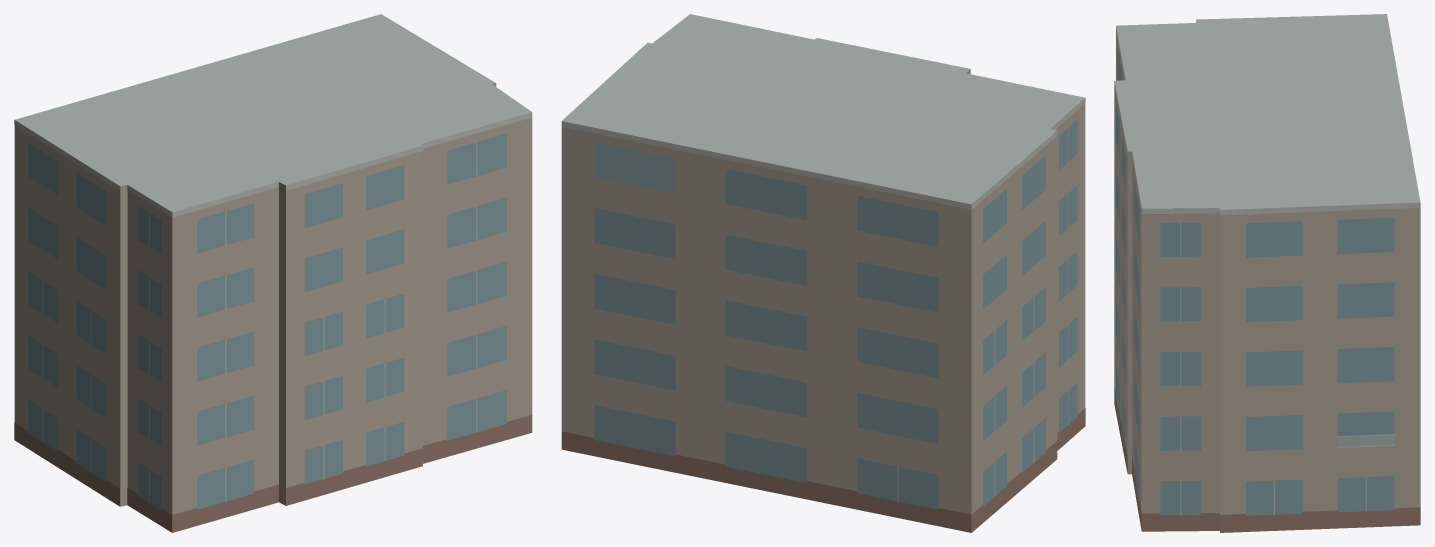
Rendered from survey-upis-33033299.glb.
3 views of the same model, side by side, from view 1: azimuth 30°, elevation 25°; view 2: azimuth 150°, elevation 25°; view 3: azimuth 270°, elevation 25° (orthographic). The views are drawn at different scales.
Visible parts, largest first — view 1: survey-upis-33033299.tmp; view 2: survey-upis-33033299.tmp; view 3: survey-upis-33033299.tmp.
Part boxes in pixels (left/top/right/bottom): survey-upis-33033299.tmp: left=14, top=14, right=532, bottom=532; survey-upis-33033299.tmp: left=561, top=14, right=1085, bottom=532; survey-upis-33033299.tmp: left=1114, top=14, right=1420, bottom=532.
Bounding box in the file's own units: 19.15 × 14.7 × 12.64.
